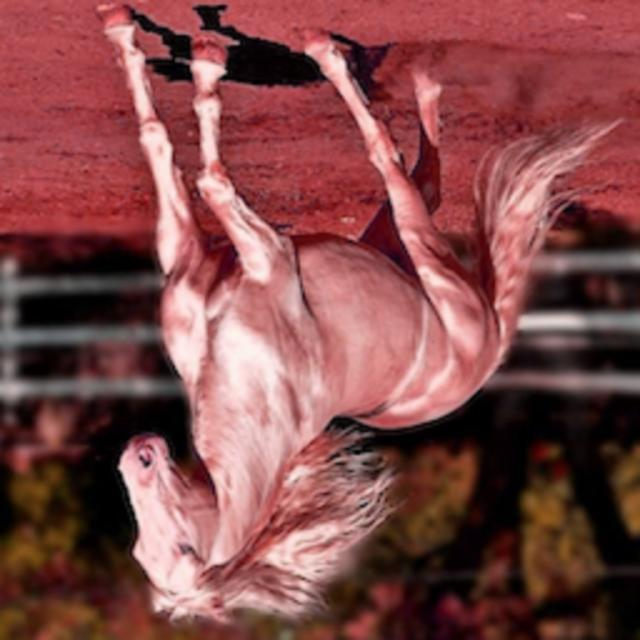Horse: (85, 2, 625, 628)
